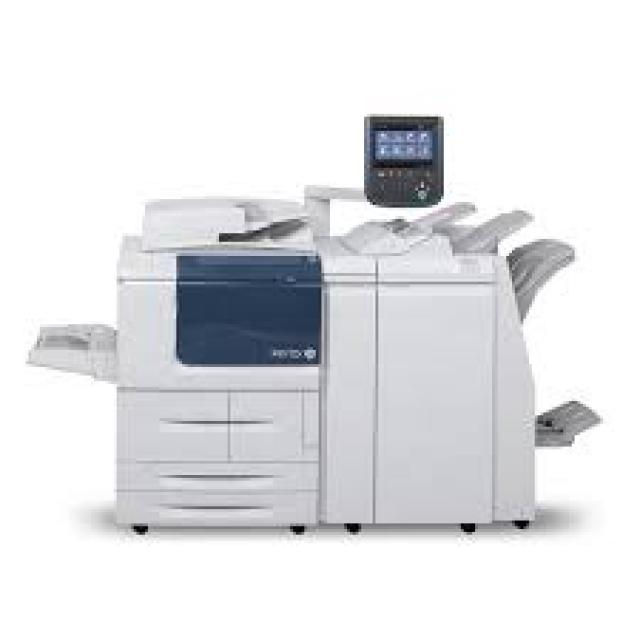printer: (15, 96, 637, 589)
